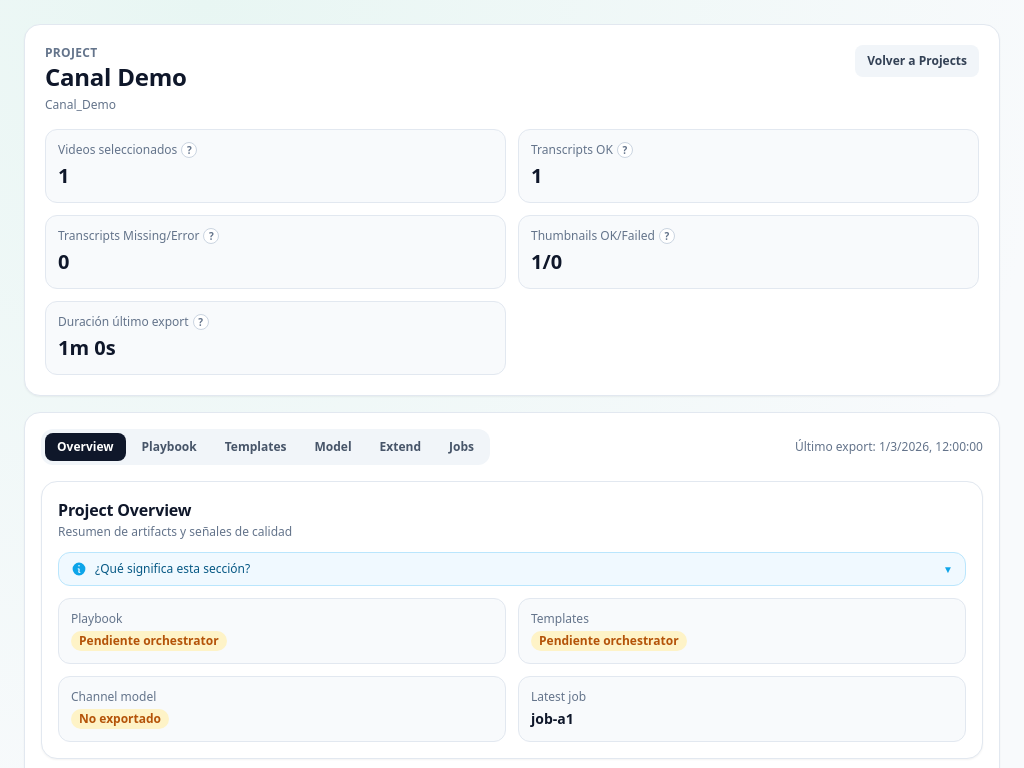
Projects pages › generates orchestrator input without launching the full rerun
This screenshot has width=1024, height=768.
Click the button "Playbook".
click(169, 447)  # box [130,433,209,461]
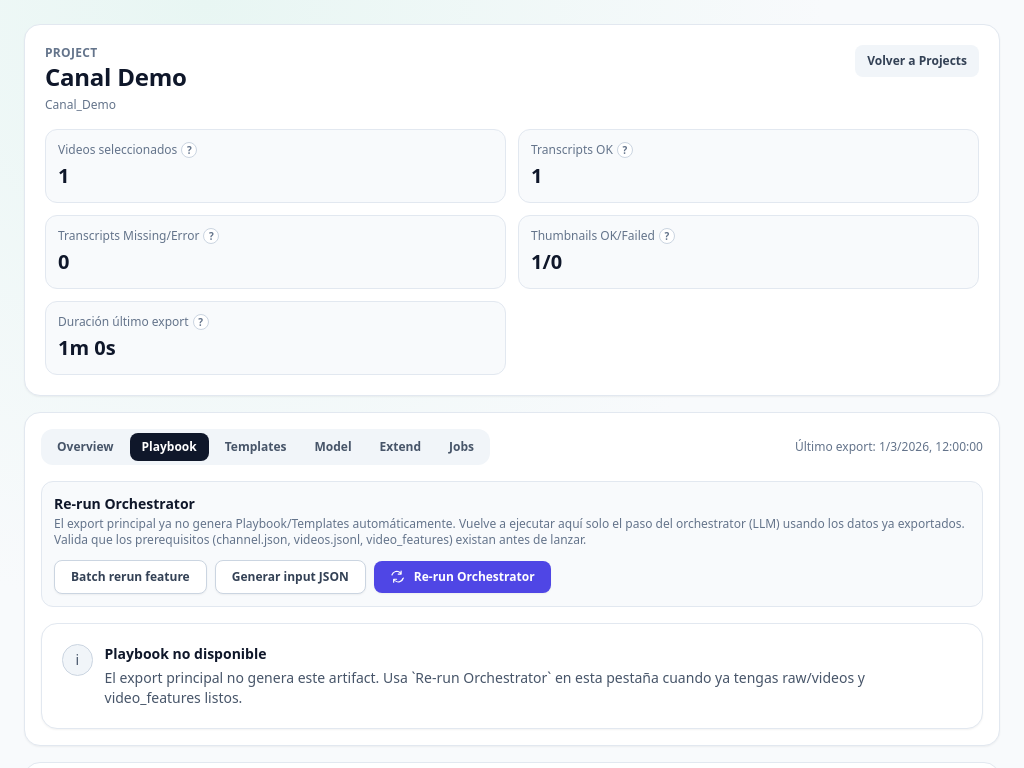
Click the button "Generar input JSON".
click(290, 577)  # box [215,560,366,594]
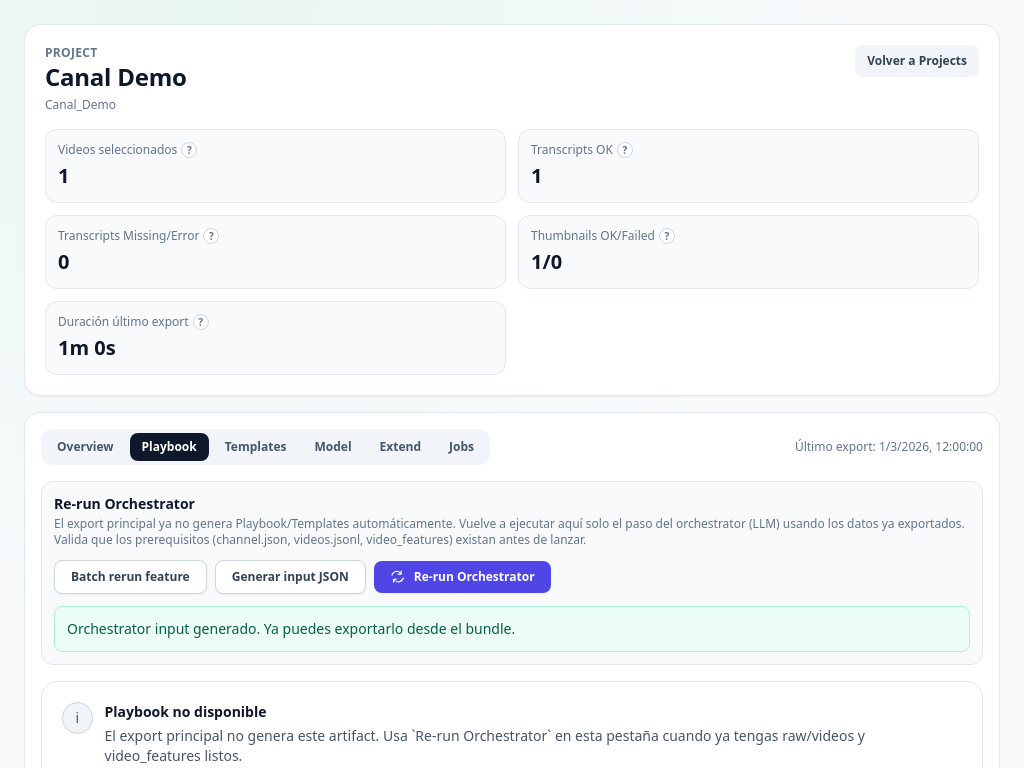
Expected: the text "Orchestrator input generado. Ya puedes exportarlo desde el bundle." is shown, [67,619,515,638]
